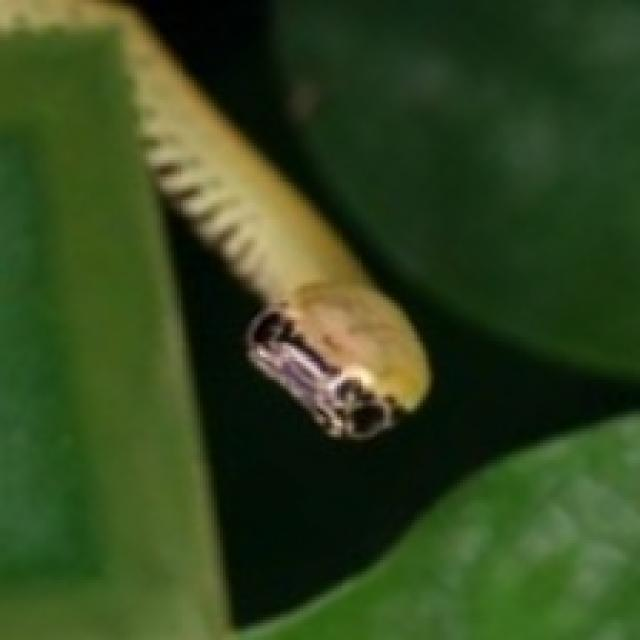paradise tree snake: (0, 0, 429, 437), (129, 20, 429, 437)
